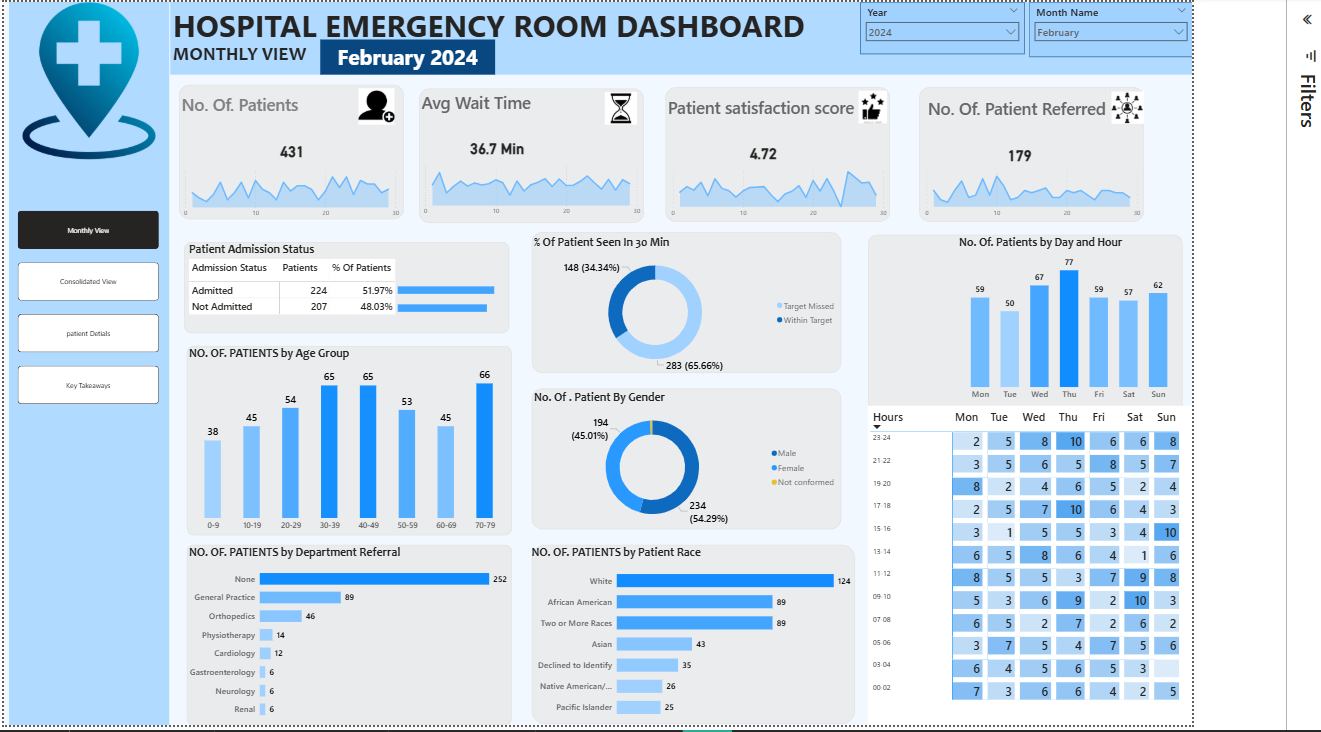

The page's visual inventory and layout, read from the dashboard file:
{"tool":"powerbi","page":{"name":"Monthly View","canvas":[2300,1400],"ordinal":0},"visuals":[{"type":"shape","box":[1671.4,449.9,609.5,948.2],"z":0},{"type":"shape","box":[1020.7,747.4,599.9,273.3],"z":1000},{"type":"shape","box":[348.3,464.4,630,177],"z":2000},{"type":"pivotTable","title":"Patient Admission Status","fields":{"Rows":["Hospital ER_Data.Admission Status"],"Values":["Hospital ER_Data.NO. OF. PATIENTS1","Hospital ER_Data.NO. OF. PATIENTS"]},"box":[352.5,465,625,177.5],"z":3000},{"type":"shape","box":[338.6,159.6,435.4,261.2],"z":4000},{"type":"shape","box":[9.9,0,310,1399],"z":5000},{"type":"shape","box":[320.5,0,1980,140.5],"z":6000},{"type":"textbox","box":[320.5,0,1260,91.2],"z":7000},{"type":"textbox","box":[321.7,72.6,290.3,67.7],"z":8000},{"type":"card","fields":{"Values":["Hospital ER_Data.NO. OF. PATIENTS"]},"box":[454.7,229.8,205.6,116.1],"z":9000},{"type":"slicer","fields":{"Values":["Date Table.Year"]},"box":[1657,0,318.1,101.1],"z":10000},{"type":"slicer","fields":{"Values":["Date Table.Month Name"]},"box":[1983.4,0,316.9,106.4],"z":11000},{"type":"textbox","box":[338.6,171.7,256.4,58.1],"z":12000},{"type":"areaChart","fields":{"Category":["Date Table.Date.Variation.Date Hierarchy.Day"],"Y":["Hospital ER_Data.NO. OF. PATIENTS"]},"box":[336.6,314.6,436.6,112.2],"z":13000},{"type":"card","fields":{"Values":["Min(Date Table.Month & Year)"]},"box":[612,72.6,338.6,67.7],"z":14000},{"type":"shape","box":[803,166.9,435.4,261.2],"z":15000},{"type":"card","fields":{"Values":["Date Table.Avg Wait Time"]},"box":[849,224.9,210.4,116.1],"z":16000},{"type":"textbox","box":[802.2,166.8,256.4,58.1],"z":17000},{"type":"areaChart","fields":{"Category":["Date Table.Date.Variation.Date Hierarchy.Day"],"Y":["Avg(Hospital ER_Data.Patient Waittime)"]},"box":[801.4,305.7,438.9,118.4],"z":18000},{"type":"shape","box":[1770.6,164.5,435.4,261.2],"z":19000},{"type":"shape","box":[1279.6,164.5,435.4,261.2],"z":20000},{"type":"card","fields":{"Values":["Date Table.Patient Satisfaction Score"]},"box":[1364.2,234.6,210.4,116.1],"z":21000},{"type":"textbox","box":[1279.6,176.6,391.8,58.1],"z":22000},{"type":"areaChart","fields":{"Category":["Date Table.Date.Variation.Date Hierarchy.Day"],"Y":["Date Table.Satisfaction Score"]},"box":[1280.5,314.6,436.6,112.2],"z":23000},{"type":"card","fields":{"Values":["Date Table.No. Of.Patient Referred"]},"box":[1859.3,236.7,210.4,116.1],"z":24000},{"type":"textbox","box":[1782.7,179,360.4,58.1],"z":25000},{"type":"areaChart","fields":{"Category":["Date Table.Date.Variation.Date Hierarchy.Day"],"Y":["Date Table.No. Of.Patient Referred"]},"box":[1770.7,314.6,436.6,112.2],"z":26000},{"type":"barChart","fields":{"Category":["Hospital ER_Data.Admission Status"],"Y":["Hospital ER_Data.NO. OF. PATIENTS"]},"box":[757.5,520,260,105],"z":27000},{"type":"shape","box":[352.5,665,630,367.5],"z":28000},{"type":"clusteredColumnChart","fields":{"Category":["Hospital ER_Data.Age Group"],"Y":["Hospital ER_Data.NO. OF. PATIENTS"]},"box":[352.5,665,630,367.5],"z":29000},{"type":"donutChart","title":"No. Of . Patient By Gender","fields":{"Y":["Hospital ER_Data.NO. OF. PATIENTS"],"Category":["Hospital ER_Data.Patient Gender"]},"box":[1020.7,749.8,599.9,273.3],"z":30000},{"type":"shape","box":[352.5,1050,630,350],"z":31000},{"type":"clusteredBarChart","fields":{"Category":["Hospital ER_Data.Department Referral"],"Y":["Hospital ER_Data.NO. OF. PATIENTS"]},"box":[353.1,1049.8,628.9,350.7],"z":32000},{"type":"shape","box":[1020.7,445.1,599.9,273.3],"z":33000},{"type":"donutChart","title":"% Of Patient Seen In 30 Min","fields":{"Category":["Hospital ER_Data.Waittime Status"],"Y":["Hospital ER_Data.NO. OF. PATIENTS"]},"box":[1020.7,449.9,599.9,273.3],"z":34000},{"type":"shape","box":[1020.7,1049.8,626.5,348.3],"z":35000},{"type":"clusteredBarChart","fields":{"Y":["Hospital ER_Data.NO. OF. PATIENTS"],"Category":["Hospital ER_Data.Patient Race"]},"box":[1015.9,1049.8,628.9,350.7],"z":36000},{"type":"pivotTable","fields":{"Rows":["Hospital ER_Data.Waittime Interval"],"Columns":["Date Table.Day Name"],"Values":["Hospital ER_Data.NO. OF. PATIENTS"]},"box":[1671.4,781.3,628.9,616.8],"z":37000},{"type":"columnChart","title":"No. Of. Patients by Day and Hour","fields":{"Category":["Date Table.Day Name"],"Y":["Hospital ER_Data.NO. OF. PATIENTS"]},"box":[1843.1,449.9,437.8,331.4],"z":38000},{"type":"image","box":[2143.1,171.7,62.9,65.3],"z":39000},{"type":"image","box":[1647.2,171.7,67.7,62.9],"z":40000},{"type":"image","box":[1148.9,174.2,89.5,62.9],"z":41000},{"type":"image","box":[667.6,166.9,106.4,70.1],"z":42000},{"type":"image","box":[9.7,0,309.6,304.8],"z":43000},{"type":"pageNavigator","box":[27.1,404.4,273.7,377.3],"z":44000}]}

Visuals, with their boxes on the page's 2300x1400 design canvas (x1, y1, x2, y2). These are canvas units, not pixel positions in the 1321x732 screenshot, which may show the page scaled, cropped or inside an application window:
shape: locate(1671, 450, 2281, 1398)
shape: locate(1021, 747, 1621, 1021)
shape: locate(348, 464, 978, 641)
"Patient Admission Status" pivotTable: locate(352, 465, 978, 642)
shape: locate(339, 160, 774, 421)
shape: locate(10, 0, 320, 1399)
shape: locate(320, 0, 2300, 140)
textbox: locate(320, 0, 1580, 91)
textbox: locate(322, 73, 612, 140)
card - Hospital ER_Data.NO. OF. PATIENTS: locate(455, 230, 660, 346)
slicer - Date Table.Year: locate(1657, 0, 1975, 101)
slicer - Date Table.Month Name: locate(1983, 0, 2300, 106)
textbox: locate(339, 172, 595, 230)
areaChart - Date Table.Date.Variation.Date Hierarchy.Day x Hospital ER_Data.NO. OF. PATIENTS: locate(337, 315, 773, 427)
card - Min(Date Table.Month & Year): locate(612, 73, 951, 140)
shape: locate(803, 167, 1238, 428)
card - Date Table.Avg Wait Time: locate(849, 225, 1059, 341)
textbox: locate(802, 167, 1059, 225)
areaChart - Date Table.Date.Variation.Date Hierarchy.Day x Avg(Hospital ER_Data.Patient Waittime): locate(801, 306, 1240, 424)
shape: locate(1771, 164, 2206, 426)
shape: locate(1280, 164, 1715, 426)
card - Date Table.Patient Satisfaction Score: locate(1364, 235, 1575, 351)
textbox: locate(1280, 177, 1671, 235)
areaChart - Date Table.Date.Variation.Date Hierarchy.Day x Date Table.Satisfaction Score: locate(1280, 315, 1717, 427)
card - Date Table.No. Of.Patient Referred: locate(1859, 237, 2070, 353)
textbox: locate(1783, 179, 2143, 237)
areaChart - Date Table.Date.Variation.Date Hierarchy.Day x Date Table.No. Of.Patient Referred: locate(1771, 315, 2207, 427)
barChart - Hospital ER_Data.Admission Status x Hospital ER_Data.NO. OF. PATIENTS: locate(758, 520, 1018, 625)
shape: locate(352, 665, 982, 1032)
clusteredColumnChart - Hospital ER_Data.Age Group x Hospital ER_Data.NO. OF. PATIENTS: locate(352, 665, 982, 1032)
"No. Of . Patient By Gender" donutChart: locate(1021, 750, 1621, 1023)
shape: locate(352, 1050, 982, 1400)
clusteredBarChart - Hospital ER_Data.Department Referral x Hospital ER_Data.NO. OF. PATIENTS: locate(353, 1050, 982, 1400)
shape: locate(1021, 445, 1621, 718)
"% Of Patient Seen In 30 Min" donutChart: locate(1021, 450, 1621, 723)
shape: locate(1021, 1050, 1647, 1398)
clusteredBarChart - Hospital ER_Data.NO. OF. PATIENTS x Hospital ER_Data.Patient Race: locate(1016, 1050, 1645, 1400)
pivotTable - Hospital ER_Data.Waittime Interval x Date Table.Day Name: locate(1671, 781, 2300, 1398)
"No. Of. Patients by Day and Hour" columnChart: locate(1843, 450, 2281, 781)
image: locate(2143, 172, 2206, 237)
image: locate(1647, 172, 1715, 235)
image: locate(1149, 174, 1238, 237)
image: locate(668, 167, 774, 237)
image: locate(10, 0, 319, 305)
pageNavigator: locate(27, 404, 301, 782)
